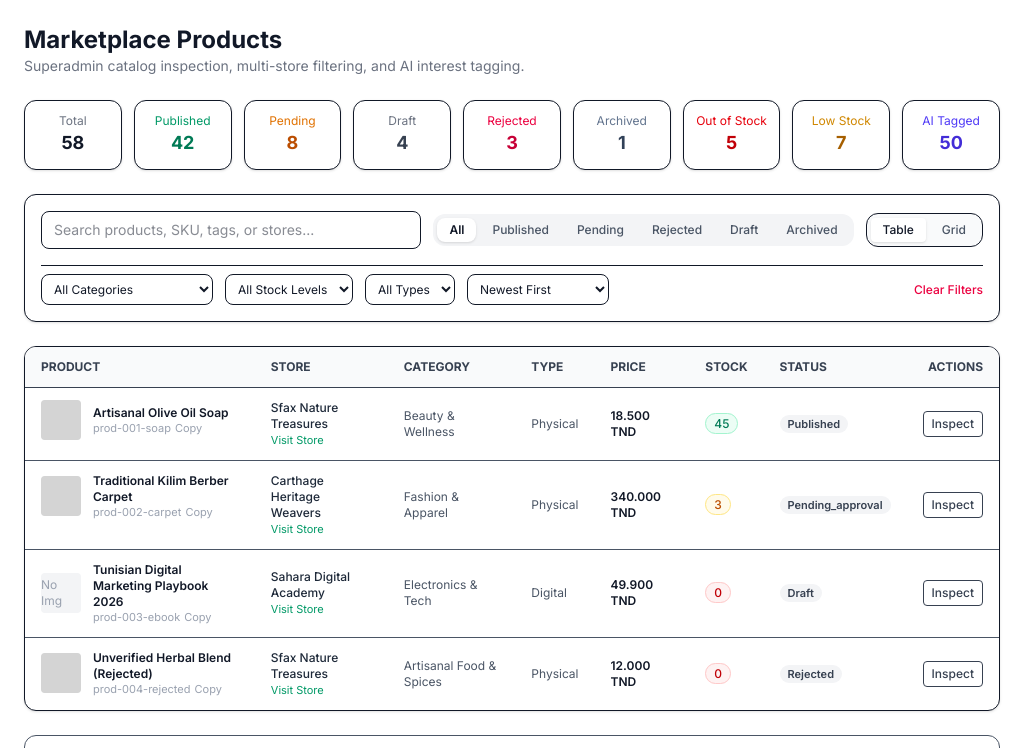
Test: Superadmin Marketplace Products Hub (`/products`) — Component & Integration Suite › Suite 5: Slide-Out Inspection Drawer & Tag Studio Mutation › navigates between all 6 drawer tabs (Overview, Variants, Specs, SEO, Store, Tag Studio)
Click the text "Artisanal Olive Oil Soap": (161, 413) [93,405,228,421]
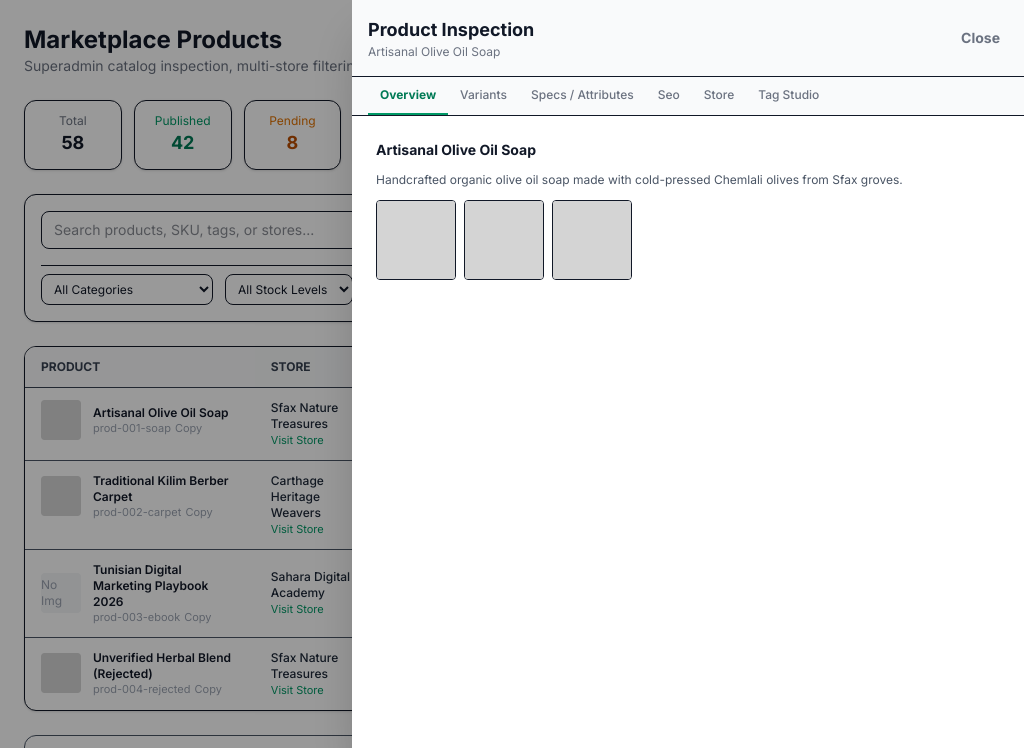
Expected: the heading "Product Inspection" is shown, [368,16,534,44]
Note: Tab 2: Variants Matrix
Click the tab "variants": (484, 96) [448,77,519,115]
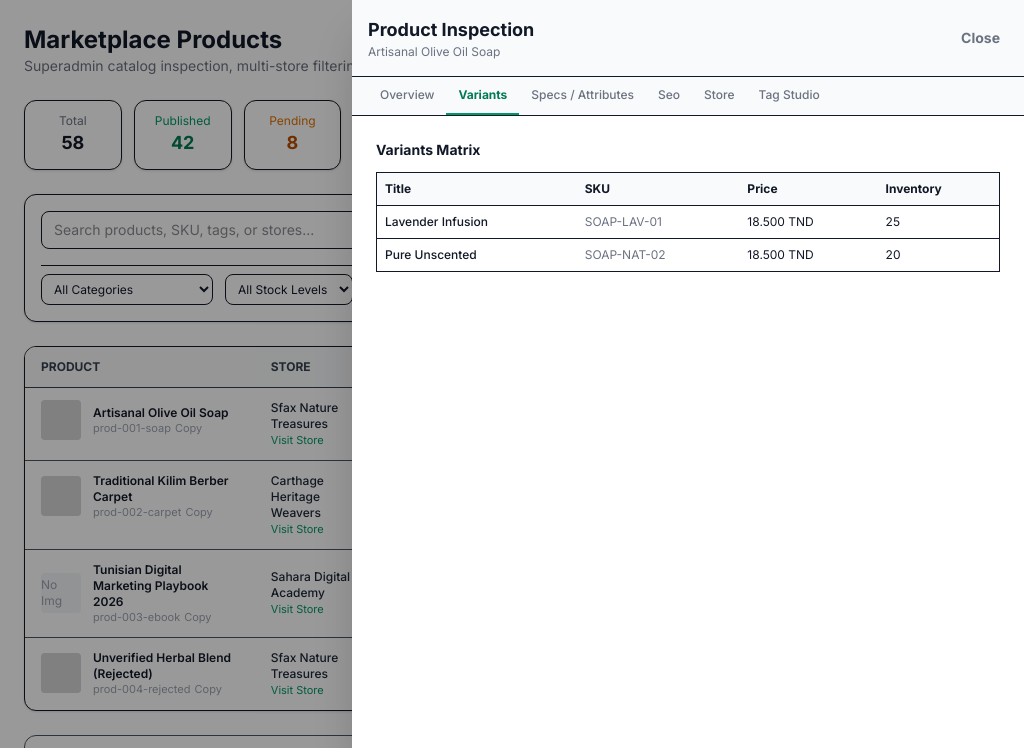
Expected: the text "Lavender Infusion" is shown, [376,206,577,238]
Expected: the text "Pure Unscented" is shown, [376,238,577,272]
Note: Tab 3: Specifications / Attributes
Click the tab "Specs / Attributes": (583, 96) [519,77,646,115]
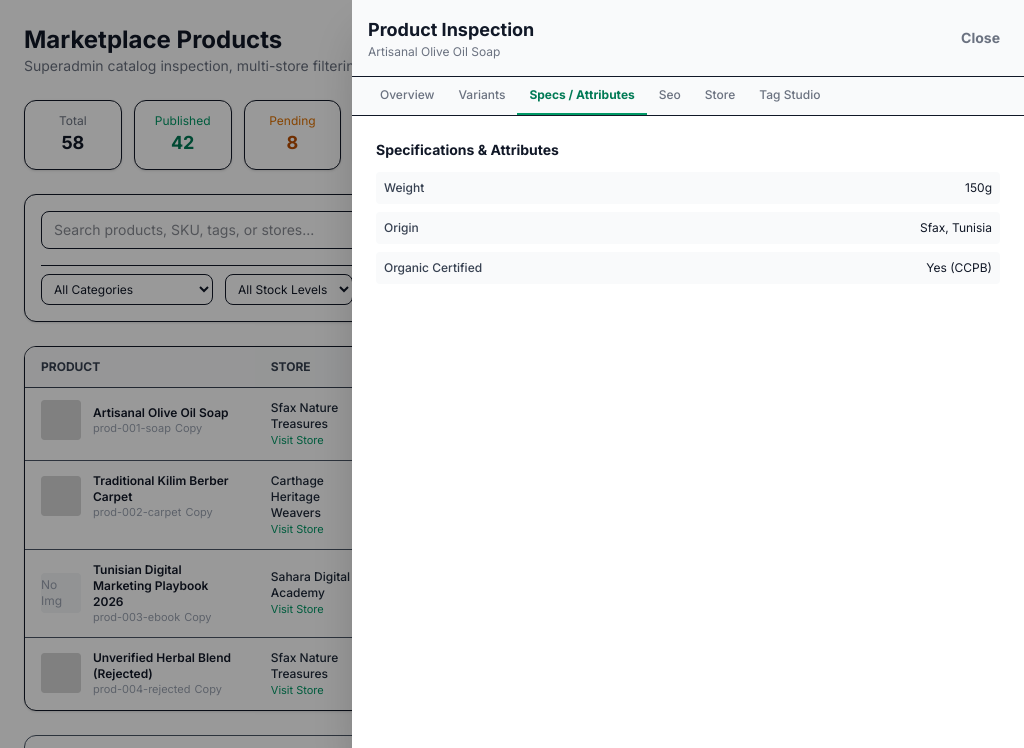
Expected: the text "Organic Certified" is shown, [384,260,482,276]
Note: Tab 4: SEO & Taxonomy
Click the tab "seo": (670, 96) [647,77,693,115]
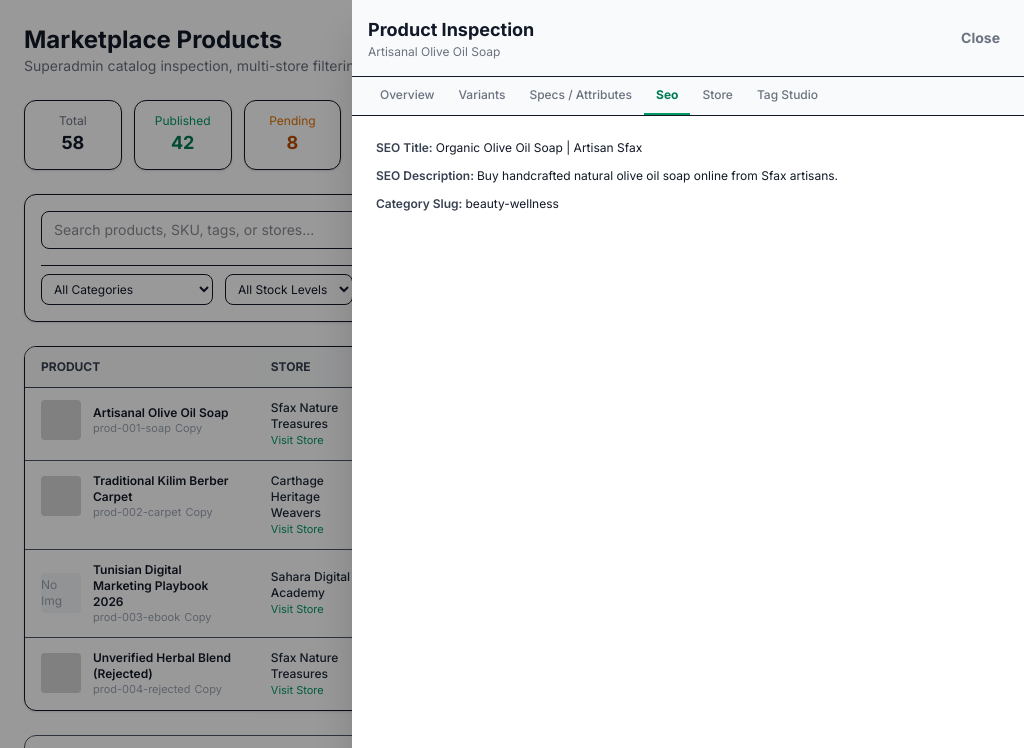
Expected: the text "Organic Olive Oil Soap | Artisan Sfax" is shown, [436,140,642,155]
Note: Tab 5: Store & Merchant Info
Click the tab "store": (718, 96) [690,77,745,115]
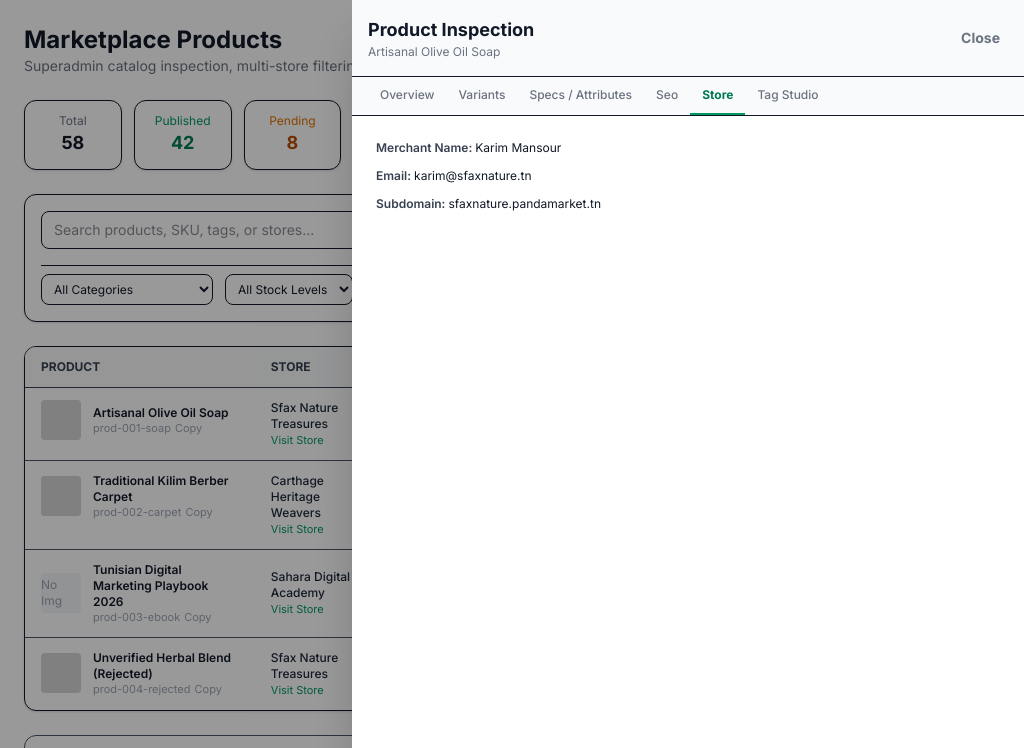
Expected: the text "Karim Mansour" is shown, [475,140,561,155]
Expected: the text "karim@sfaxnature.tn" is shown, [414,168,532,183]
